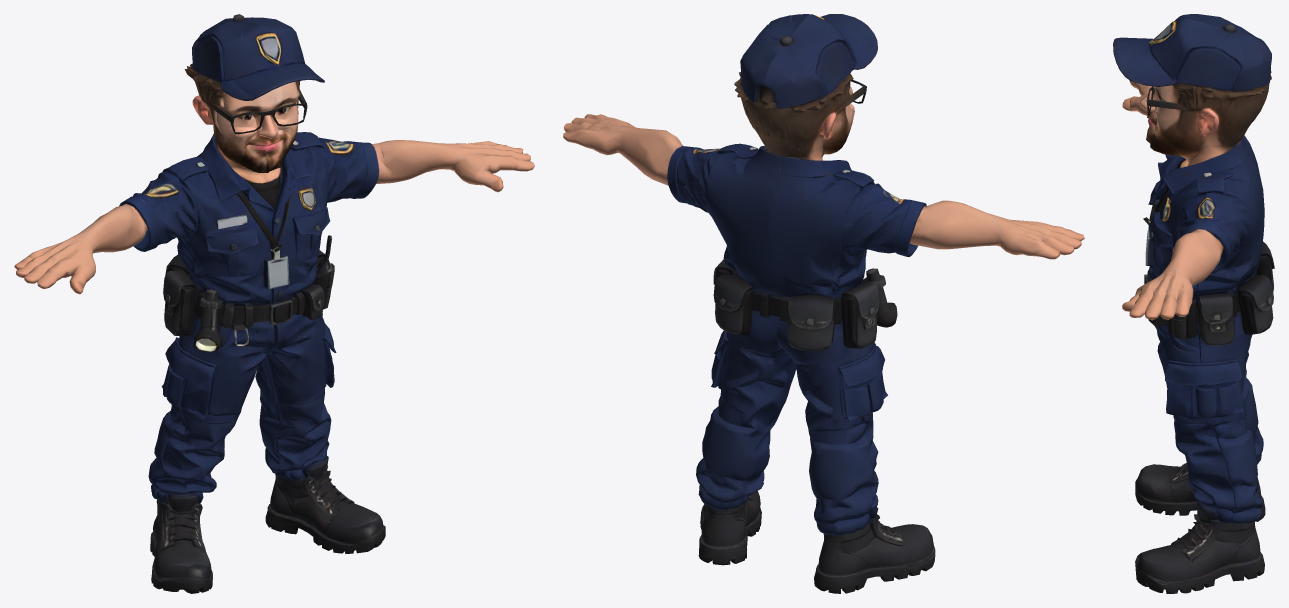
Rendered from charNightGuard.glb.
3 renders of one model, left to right at view 1: azimuth 30°, elevation 25°; view 2: azimuth 150°, elevation 25°; view 3: azimuth 270°, elevation 25°, orthographic. The views are drawn at different scales.
Visible parts, largest first — view 1: model; view 2: model; view 3: model.
Part boxes in pixels (x1,y1,x2,y2): model: [14, 14, 534, 593]; model: [563, 14, 1084, 593]; model: [1113, 14, 1274, 593].
Size of the model in its own units: 1.88 by 1.9 by 0.5299.
Materials: 1 (1 with a texture image).
